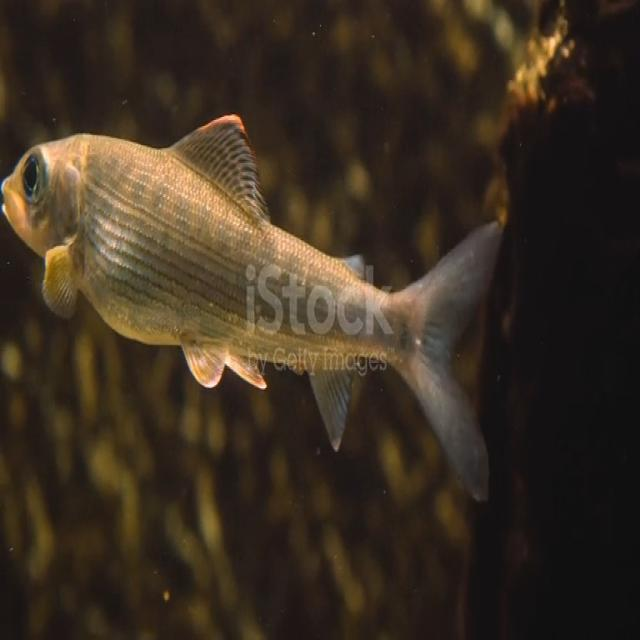fish: (0, 96, 503, 508)
